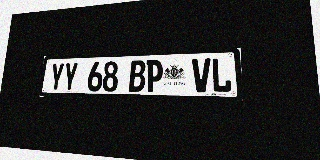6: (87, 62, 104, 91)
8: (102, 61, 119, 92)
B: (129, 60, 146, 92)
L: (211, 58, 232, 93)
P: (145, 60, 163, 92)
V: (192, 58, 211, 92)
Y: (62, 62, 78, 91), (49, 63, 65, 91)
